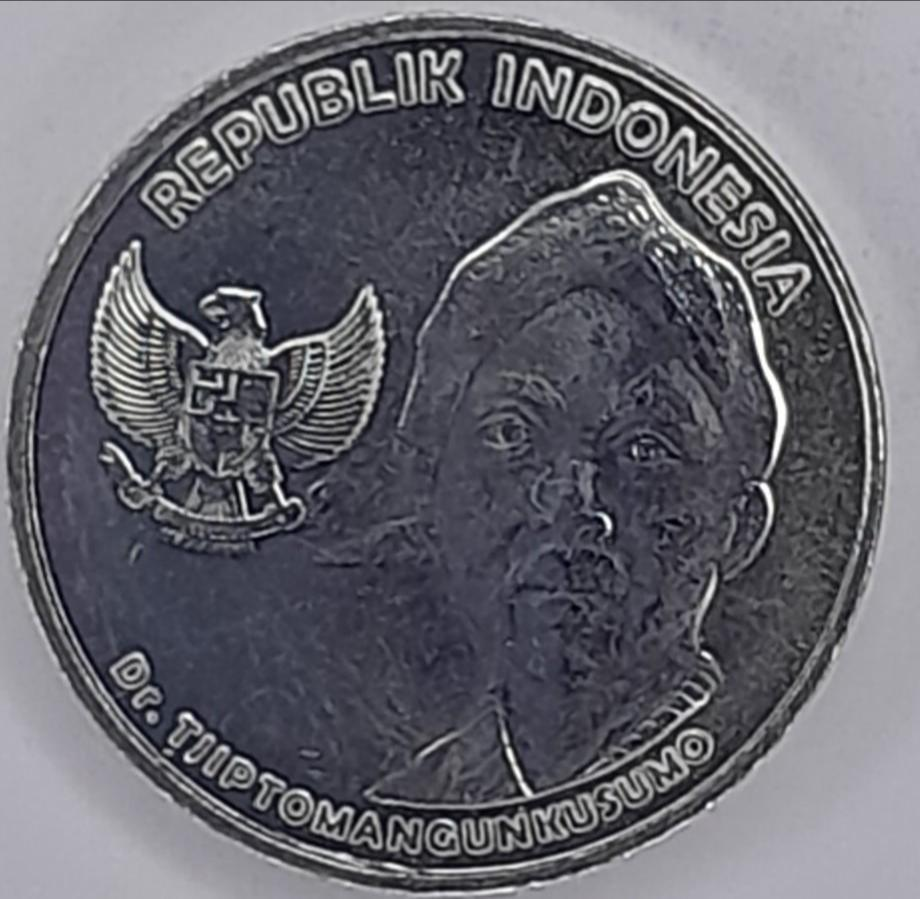coin_200_e2016: (0, 16, 920, 899)
